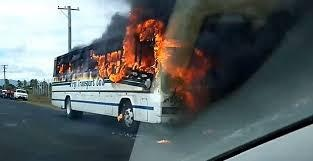fire: (94, 17, 209, 105), (57, 62, 69, 72)
